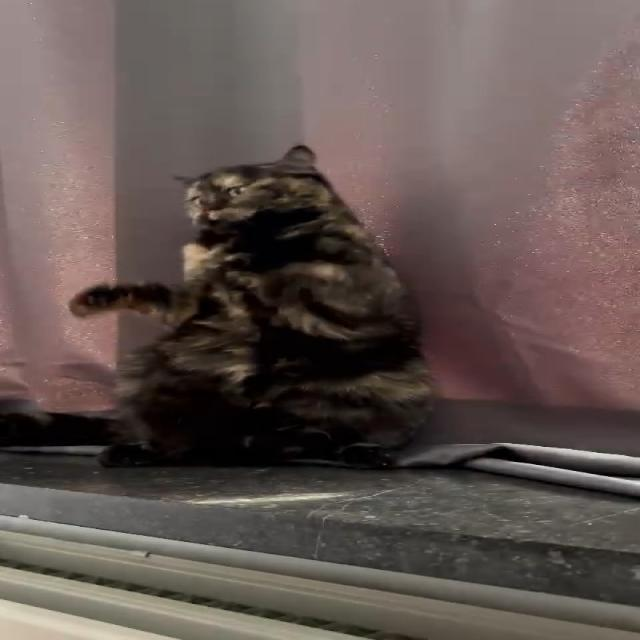authorized: (67, 143, 437, 469)
